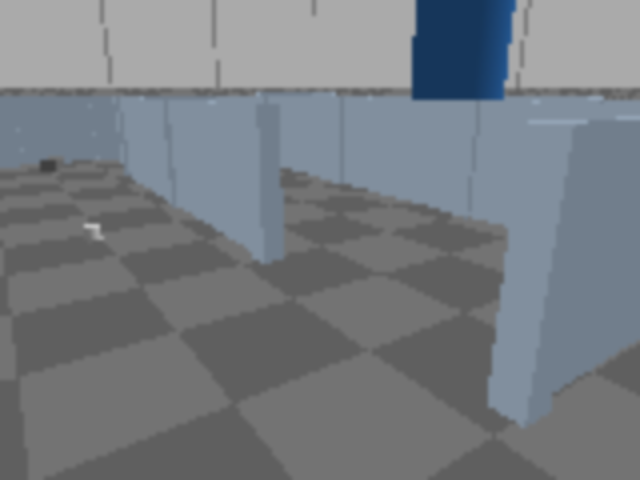obstacle: (38, 158, 65, 171)
puck: (84, 224, 101, 242)
